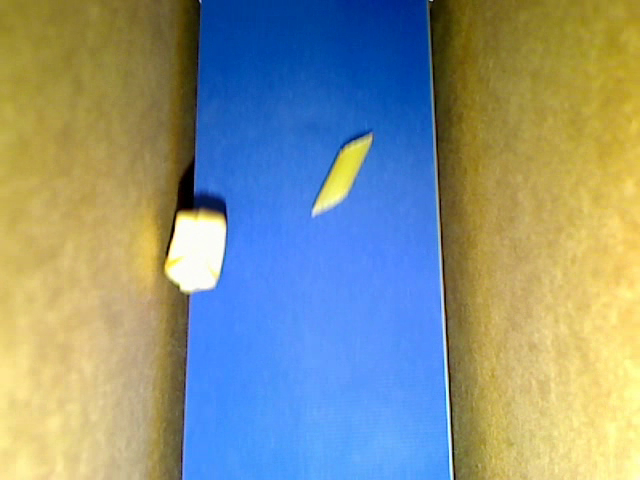penne: (310, 131, 374, 215)
